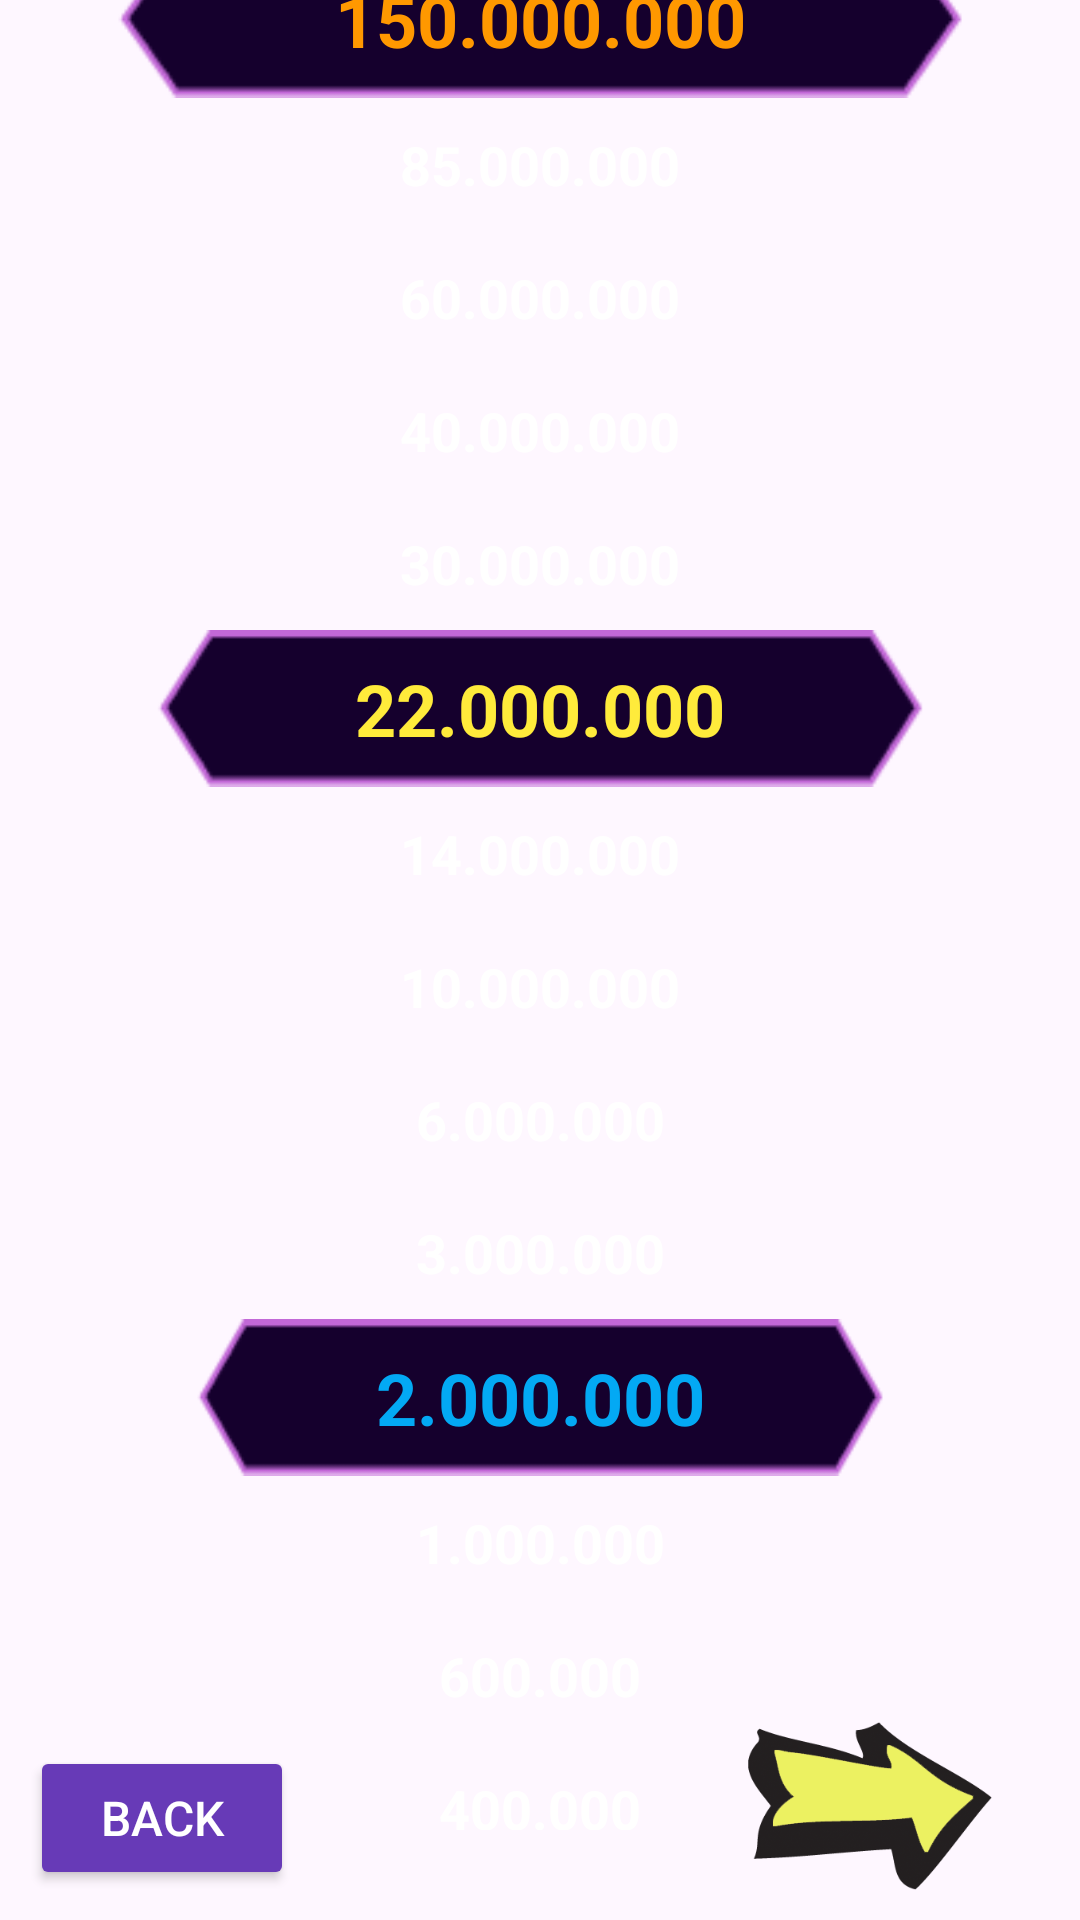

Screen size 1080 x 1920. Icon name, then its center in pixels as [x,y]:
arrow: [870,1806]
